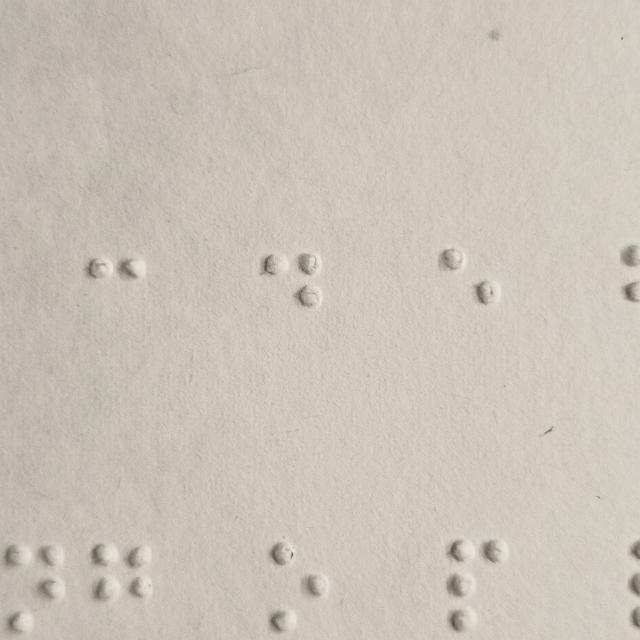c: (85, 249, 149, 346)
d: (260, 248, 324, 344)
e: (440, 243, 504, 340)
g: (91, 543, 155, 640)
n: (4, 542, 68, 639)
o: (267, 538, 331, 635)
p: (445, 538, 509, 635)
